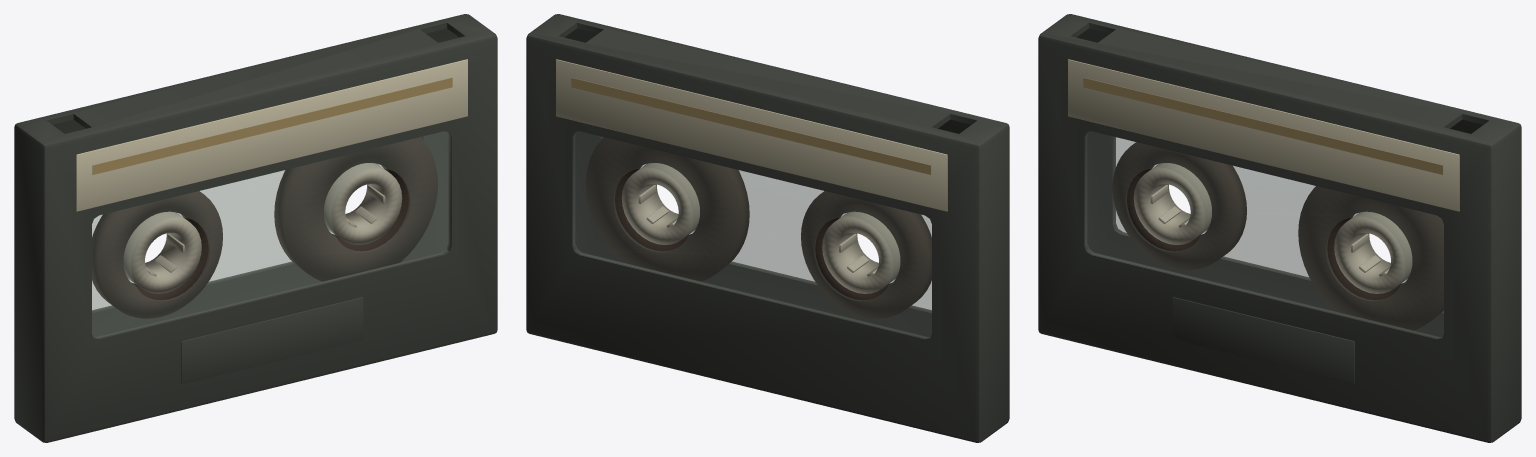
The model's file is A03_WorkTape.fbx.
3 renders of one model, left to right at view 1: azimuth 30°, elevation 25°; view 2: azimuth 150°, elevation 25°; view 3: azimuth 330°, elevation 25°, orthographic.
Parts seen in each view (by area): view 1: A03_WorkTape_Shell, A03_WorkTape_Window_Front, A03_WorkTape_Label.001, A03_WorkTape_Winding_R, A03_WorkTape_Winding_L, A03_WorkTape_BlankGrip, A03_WorkTape_Window_Back, A03_WorkTape_Hub_L, A03_WorkTape_Hub_R, A03_WorkTape_Accent.001; view 2: A03_WorkTape_Shell, A03_WorkTape_Window_Back, A03_WorkTape_Label, A03_WorkTape_Winding_R, A03_WorkTape_Winding_L, A03_WorkTape_Window_Front, A03_WorkTape_Hub_L, A03_WorkTape_Hub_R, A03_WorkTape_Accent; view 3: A03_WorkTape_Shell, A03_WorkTape_Window_Front, A03_WorkTape_Label.001, A03_WorkTape_Winding_R, A03_WorkTape_Winding_L, A03_WorkTape_BlankGrip, A03_WorkTape_Window_Back, A03_WorkTape_Hub_R, A03_WorkTape_Hub_L, A03_WorkTape_Accent.001.
Boxes of the visible parts, left/top/right/bottom form: A03_WorkTape_Shell: left=14, top=14, right=497, bottom=442; A03_WorkTape_Window_Front: left=92, top=131, right=450, bottom=338; A03_WorkTape_Label.001: left=76, top=59, right=467, bottom=211; A03_WorkTape_Winding_R: left=274, top=137, right=437, bottom=281; A03_WorkTape_Winding_L: left=92, top=191, right=222, bottom=318; A03_WorkTape_BlankGrip: left=181, top=297, right=363, bottom=383; A03_WorkTape_Window_Back: left=92, top=165, right=381, bottom=310; A03_WorkTape_Hub_L: left=123, top=211, right=201, bottom=293; A03_WorkTape_Hub_R: left=324, top=163, right=402, bottom=244; A03_WorkTape_Accent.001: left=92, top=77, right=452, bottom=174; A03_WorkTape_Shell: left=526, top=14, right=1009, bottom=442; A03_WorkTape_Window_Back: left=573, top=131, right=931, bottom=338; A03_WorkTape_Label: left=556, top=59, right=947, bottom=211; A03_WorkTape_Winding_R: left=586, top=137, right=749, bottom=281; A03_WorkTape_Winding_L: left=801, top=191, right=931, bottom=318; A03_WorkTape_Window_Front: left=642, top=165, right=931, bottom=310; A03_WorkTape_Hub_L: left=822, top=211, right=900, bottom=293; A03_WorkTape_Hub_R: left=621, top=163, right=699, bottom=244; A03_WorkTape_Accent: left=571, top=77, right=931, bottom=174; A03_WorkTape_Shell: left=1038, top=14, right=1521, bottom=442; A03_WorkTape_Window_Front: left=1085, top=131, right=1443, bottom=338; A03_WorkTape_Label.001: left=1068, top=59, right=1459, bottom=211; A03_WorkTape_Winding_R: left=1298, top=186, right=1443, bottom=330; A03_WorkTape_Winding_L: left=1112, top=142, right=1246, bottom=269; A03_WorkTape_BlankGrip: left=1172, top=297, right=1354, bottom=383; A03_WorkTape_Window_Back: left=1115, top=137, right=1405, bottom=282; A03_WorkTape_Hub_R: left=1334, top=211, right=1412, bottom=293; A03_WorkTape_Hub_L: left=1133, top=163, right=1211, bottom=244; A03_WorkTape_Accent.001: left=1083, top=77, right=1443, bottom=174.
Size of the model in its own units: 10 by 6.33 by 1.28.
